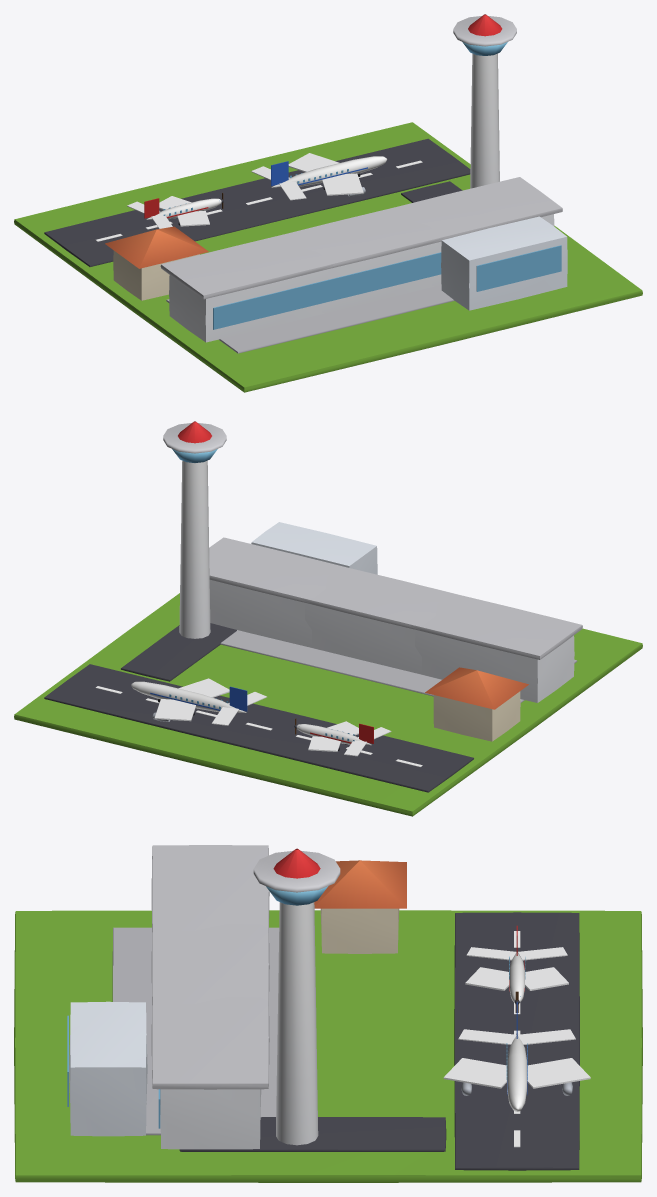
File: Airport_L4.obj
The picture shows the model from 3 angles, top to bottom: view 1: azimuth 30°, elevation 25°; view 2: azimuth 150°, elevation 25°; view 3: azimuth 270°, elevation 25°; orthographic projection. The views are drawn at different scales.
Visible parts, largest first — view 1: Airport_L4; view 2: Airport_L4; view 3: Airport_L4.
Boxes of the visible parts, box(x1,y1,x2,y2) form: Airport_L4: box(14, 14, 642, 392); Airport_L4: box(14, 421, 642, 816); Airport_L4: box(14, 845, 642, 1182).
Bounding box in the file's own units: 8 × 4.19 × 8.
1 material, 1 textured.
